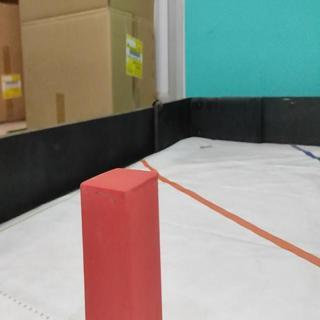redbox: (80, 167, 164, 320)
